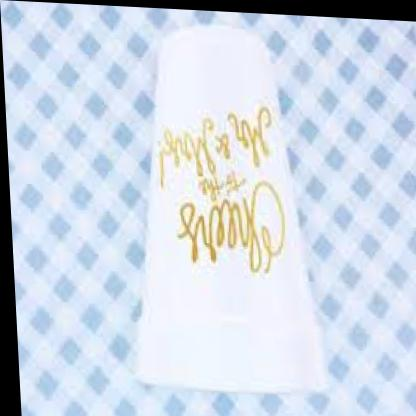Plastic: (110, 9, 340, 402)
